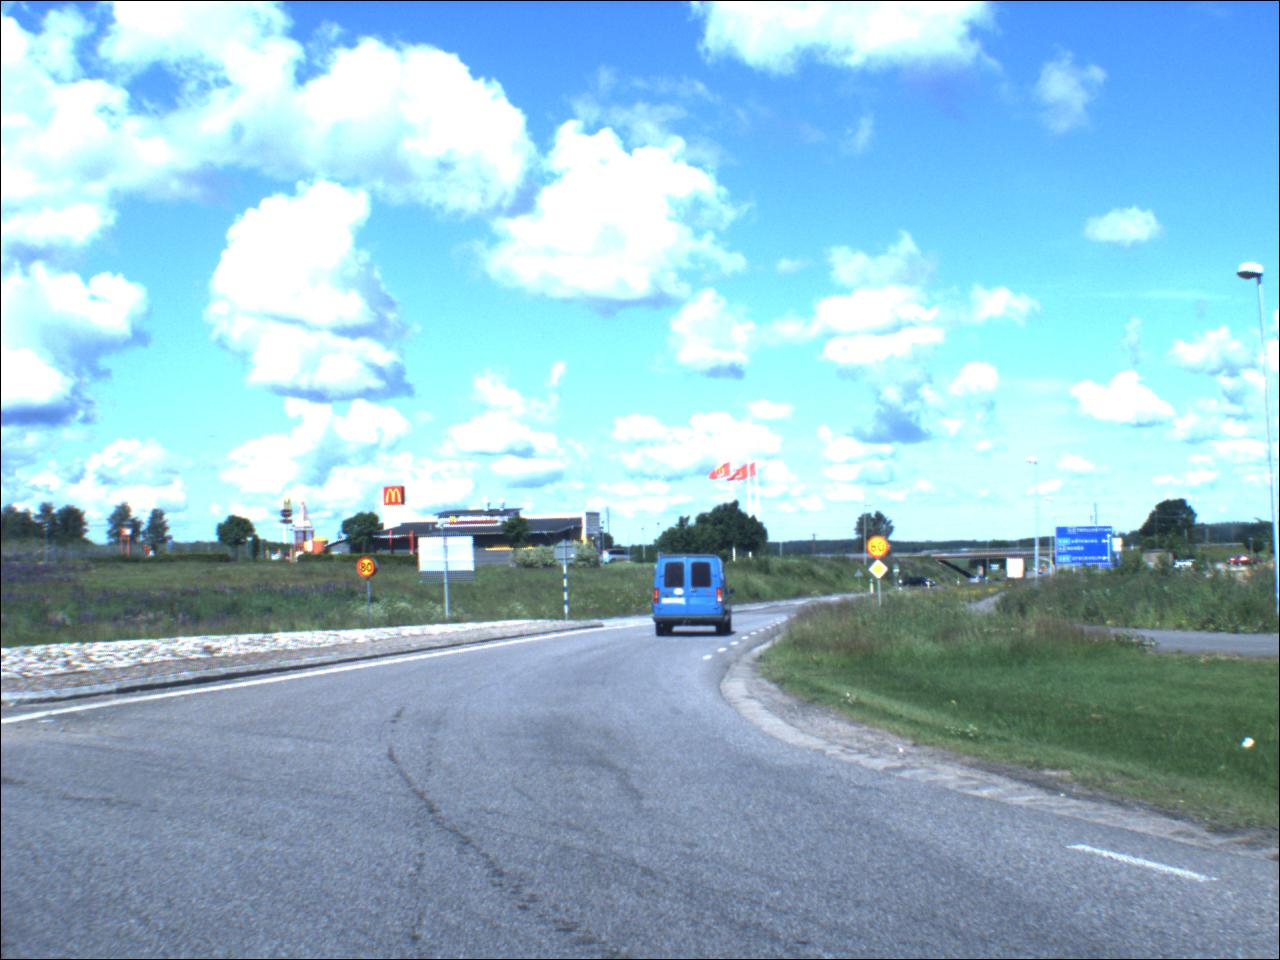80_SIGN: (869, 537, 895, 561), (359, 559, 378, 580)
PRIORITY_ROAD: (870, 561, 891, 583)
